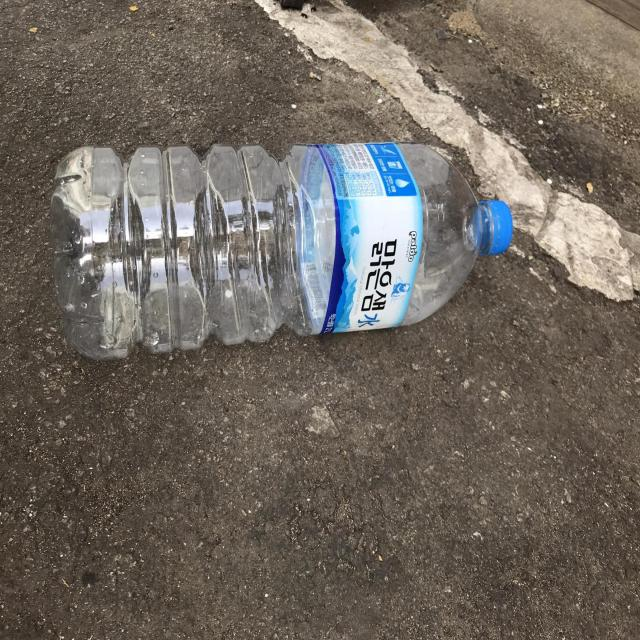plastic: (49, 141, 513, 360)
